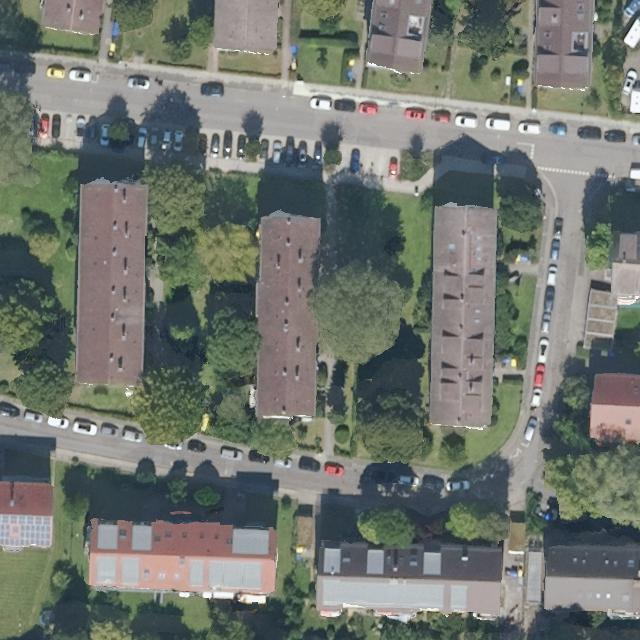PV: (1, 514, 54, 551)
